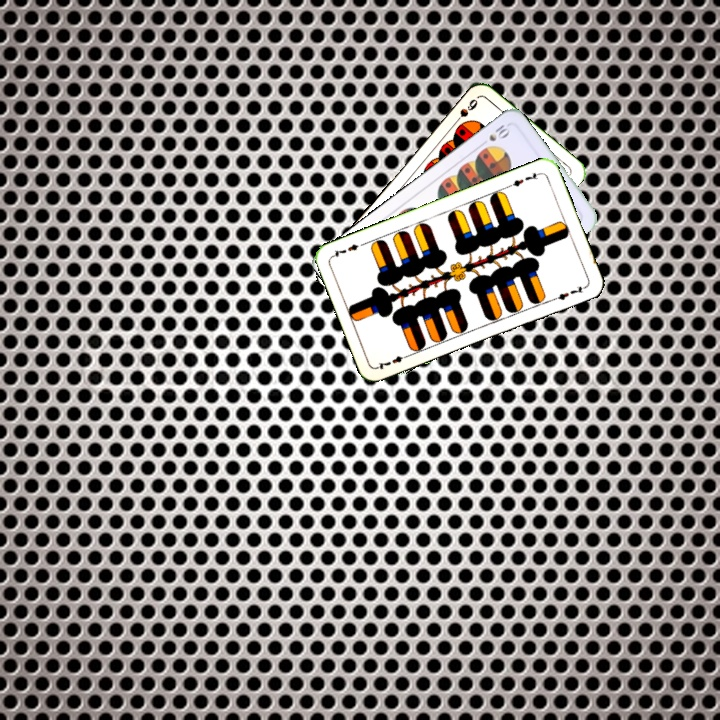E7: (504, 168, 543, 190), (374, 350, 413, 372)
S10: (476, 119, 513, 149)
S9: (449, 95, 481, 128)
